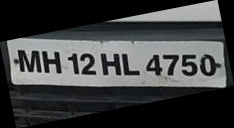character: (17, 49, 42, 73), (99, 52, 122, 76), (41, 49, 62, 74), (120, 52, 141, 75), (161, 53, 179, 76), (180, 53, 197, 77), (199, 53, 216, 77), (145, 53, 162, 76), (79, 52, 96, 74), (67, 51, 80, 75)
